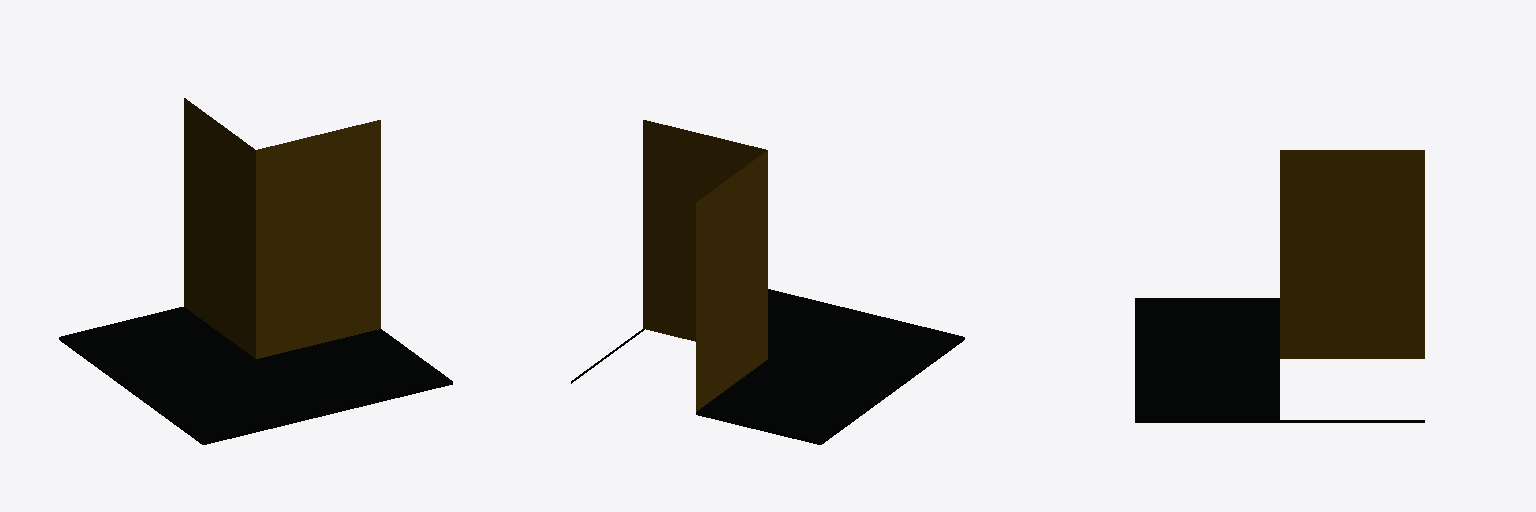
Rendered from city_multi.obj.
3 renders of one model, left to right at view 1: azimuth 30°, elevation 25°; view 2: azimuth 150°, elevation 25°; view 3: azimuth 270°, elevation 25°, orthographic.
Visible parts, largest first — view 1: city_multi_s_Plane.007; view 2: city_multi_s_Plane.007; view 3: city_multi_s_Plane.007.
Part boxes in pixels (x1,y1,x2,y2): city_multi_s_Plane.007: (59,98,452,444); city_multi_s_Plane.007: (571,120,964,444); city_multi_s_Plane.007: (1135,150,1424,422).
Bounding box in the file's own units: 1.6 × 1.29 × 1.6.